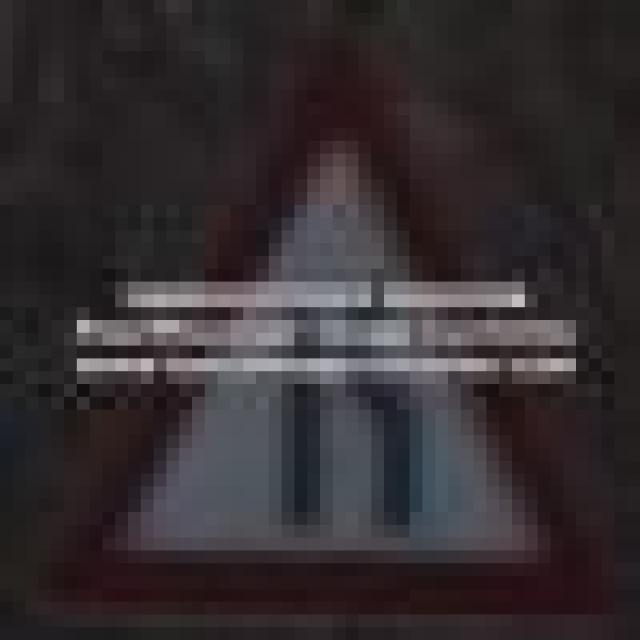NARROW_ROAD_AHEAD: (38, 26, 628, 627)
